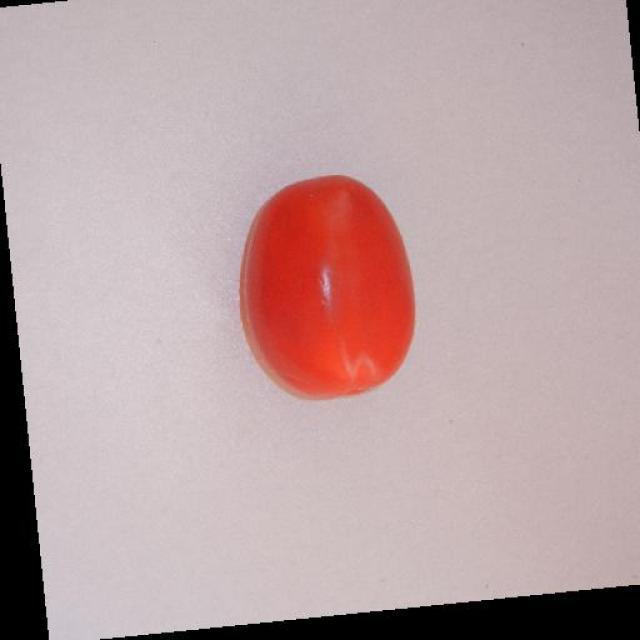Fresh Tomato: (212, 152, 440, 420)
